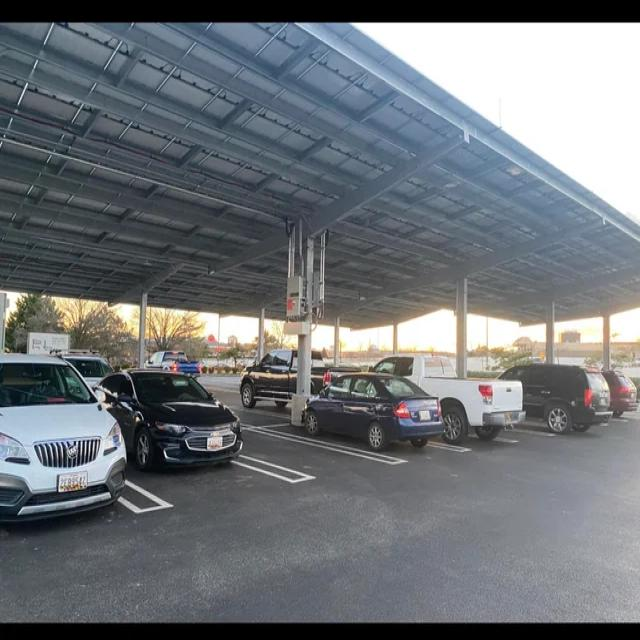libre: (244, 418, 370, 473), (205, 363, 271, 421)
ocupado: (0, 341, 249, 540), (294, 333, 639, 470), (235, 343, 346, 416)
